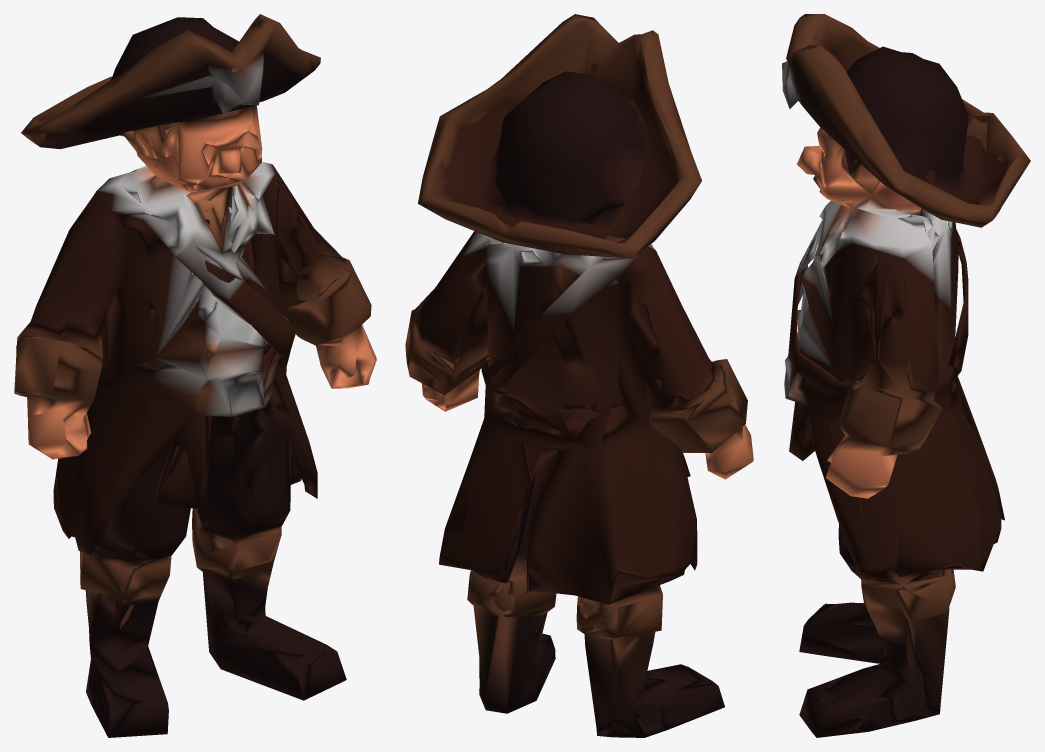
Rendered from gen3d-pirate-captain-lod0.glb.
3 renders of one model, left to right at view 1: azimuth 30°, elevation 25°; view 2: azimuth 150°, elevation 25°; view 3: azimuth 270°, elevation 25°, orthographic. The views are drawn at different scales.
Visible parts, largest first — view 1: part_0; view 2: part_0; view 3: part_0.
Part boxes in pixels (x1,y1,x2,y2): part_0: (14,14,376,737); part_0: (405,14,753,737); part_0: (782,14,1030,737).
Size of the model in its own units: 0.5388 by 0.9999 by 0.3446.
